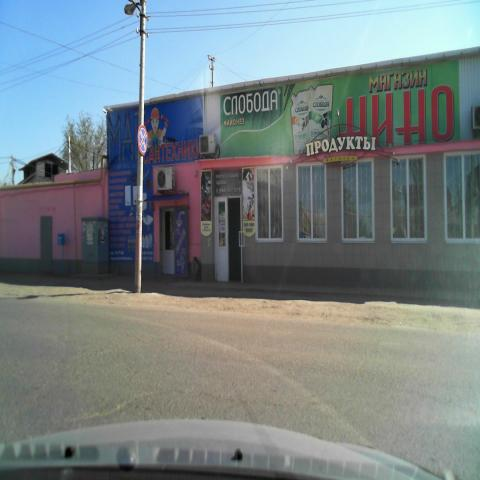3_27: (136, 126, 148, 154)
